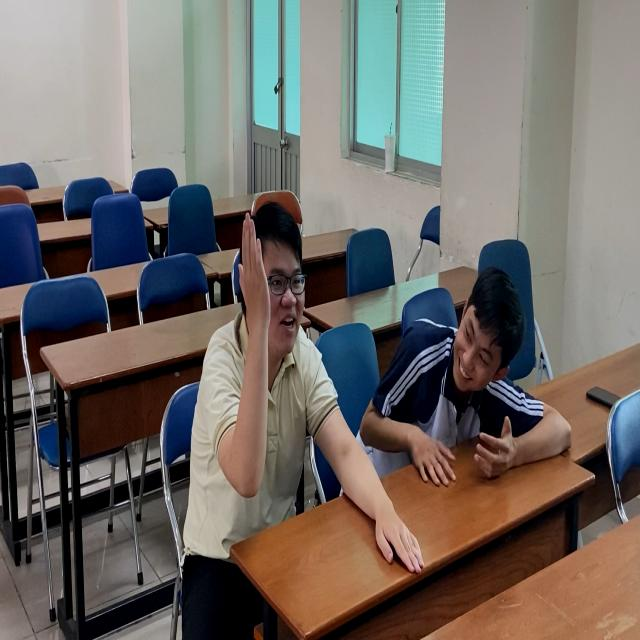raise_hand: (192, 198, 322, 551)
